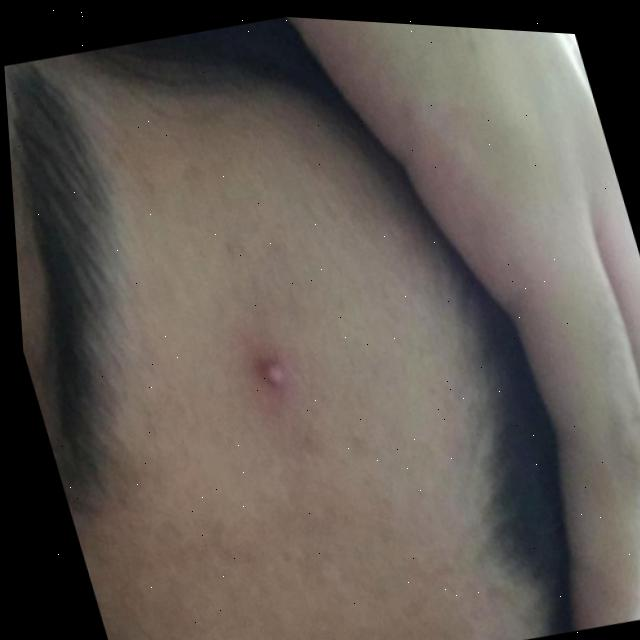Acne: (256, 358, 277, 387)
